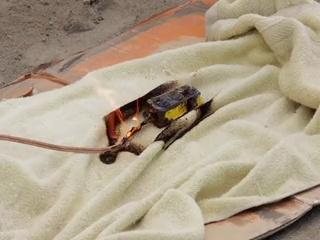Fire: (106, 96, 142, 146)
